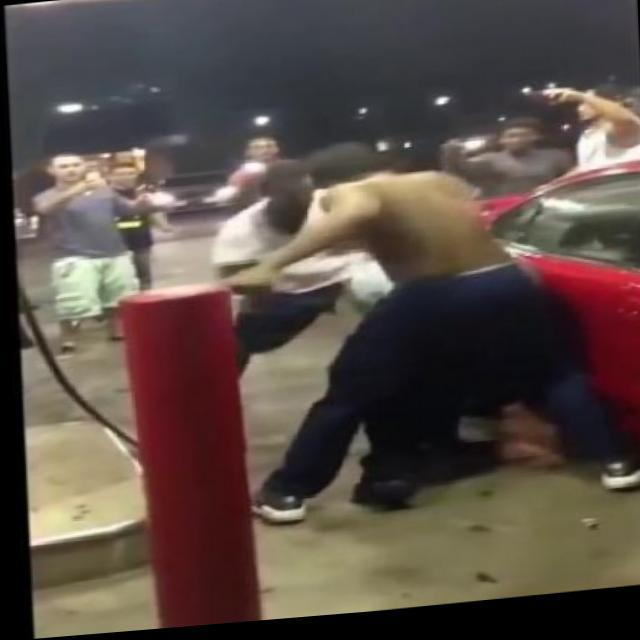fight: (210, 123, 640, 534)
